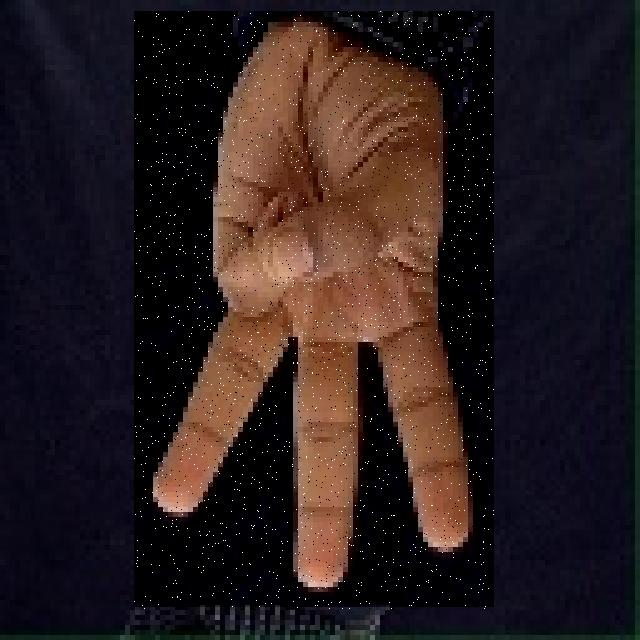Please: (134, 12, 494, 610)
